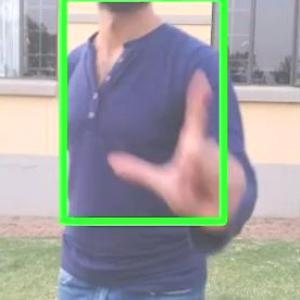land_hand: (105, 58, 250, 232)
